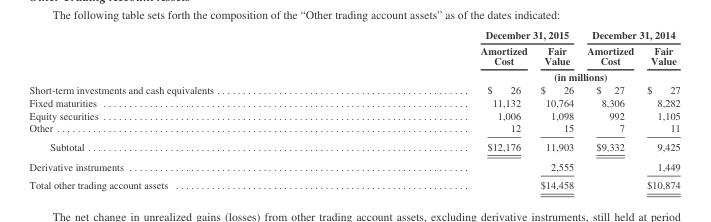table: (28, 28, 679, 190)
table column: (28, 28, 346, 190), (346, 28, 533, 190), (579, 28, 639, 190), (533, 28, 579, 190), (639, 28, 679, 190)
table column header: (28, 28, 679, 82)
table row: (28, 42, 679, 68), (28, 137, 679, 156), (28, 156, 679, 175), (28, 121, 679, 137), (28, 175, 679, 190), (28, 28, 679, 42), (28, 68, 679, 82), (28, 82, 679, 95), (28, 95, 679, 108), (28, 108, 679, 121)
table spanning cell: (346, 68, 679, 82), (346, 28, 579, 42), (579, 28, 679, 42)
